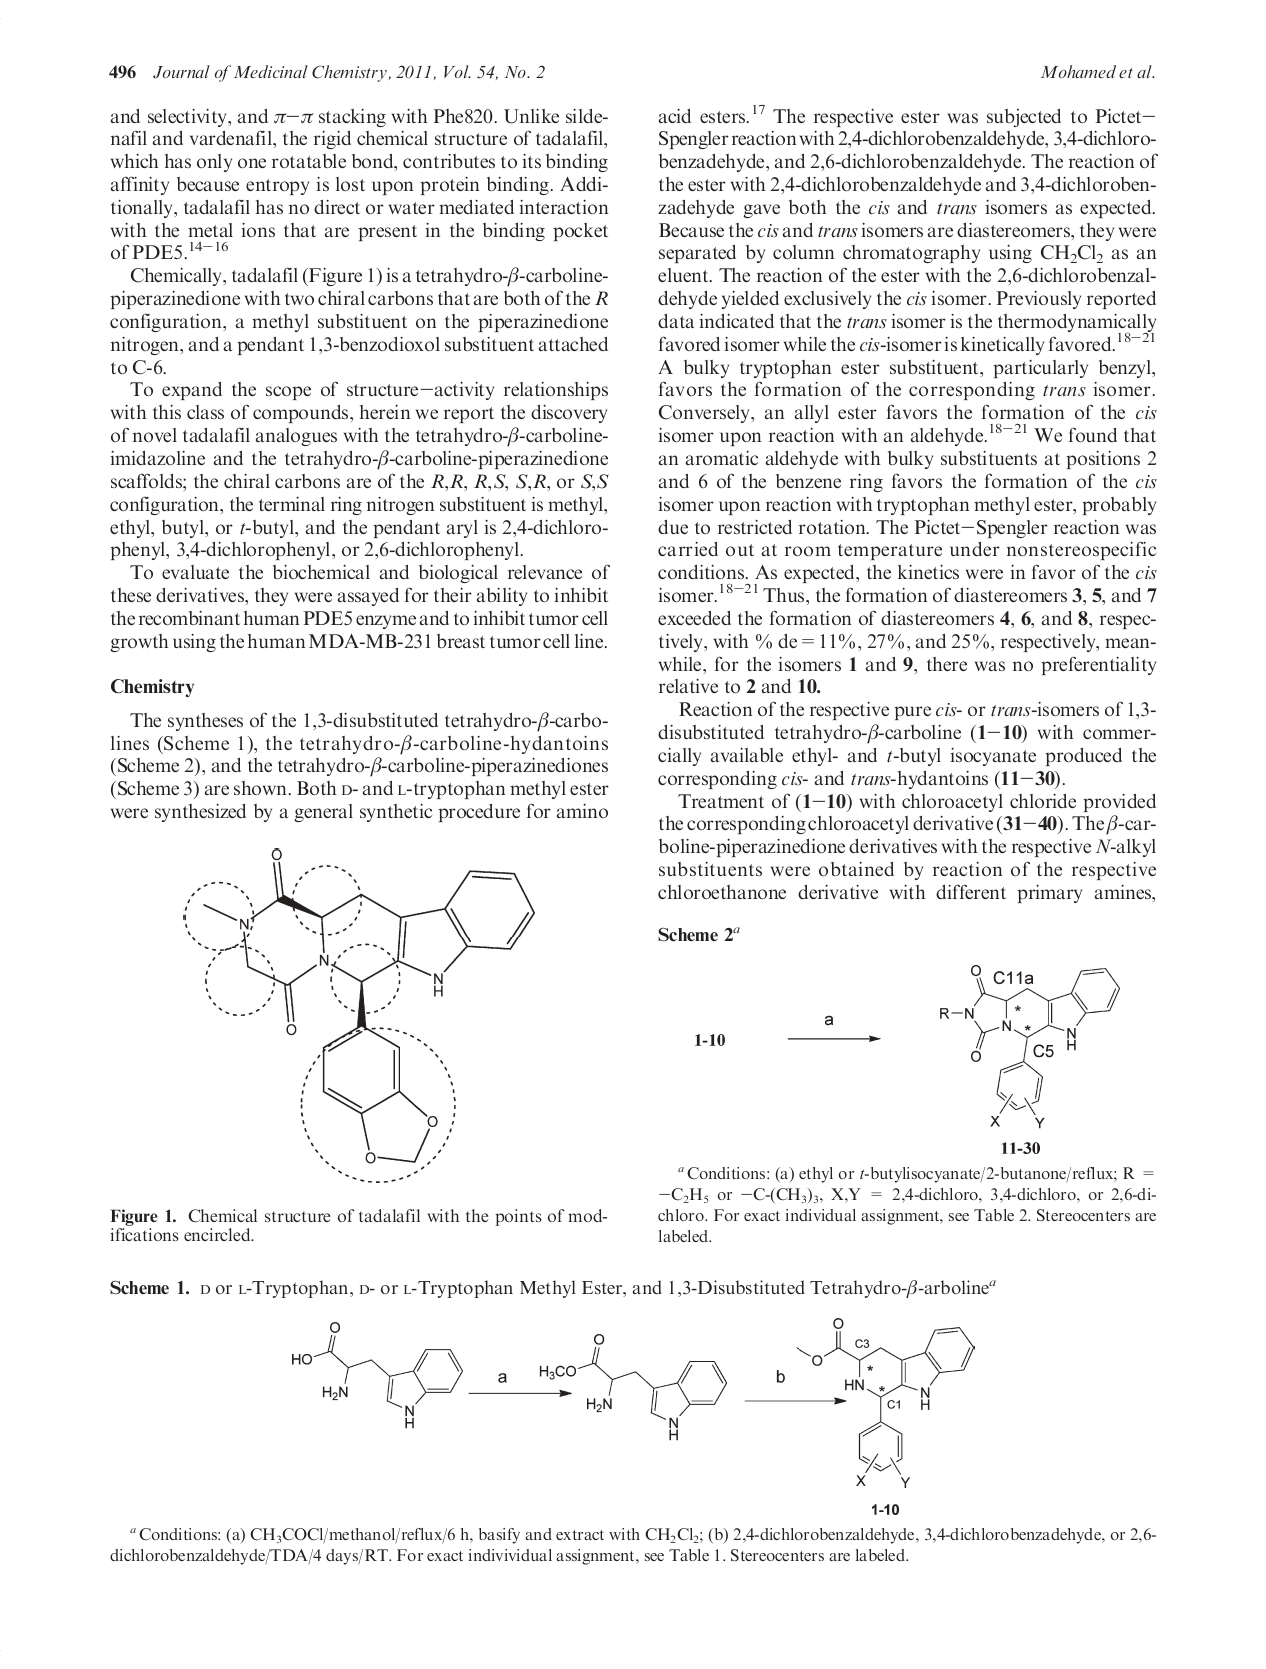exist_molecular: (199, 847, 539, 1165), (791, 1315, 976, 1492), (934, 959, 1120, 1130), (537, 1330, 729, 1442), (289, 1321, 464, 1431)
